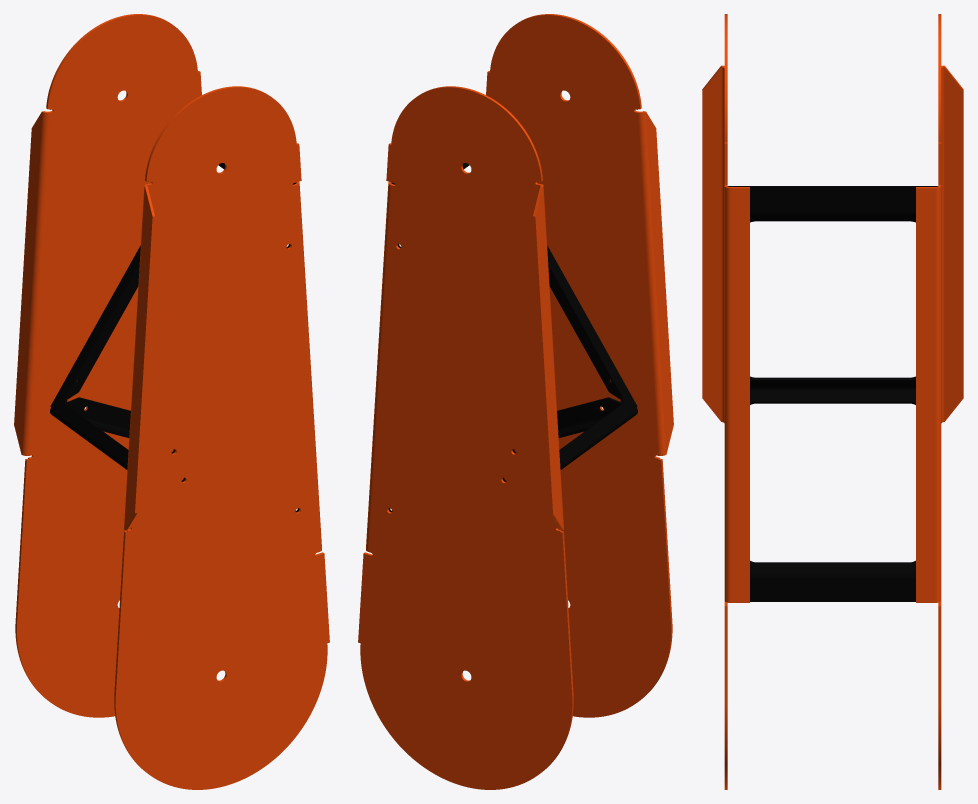
The model's file is lowerarm.dae.
3 views of the same model, side by side, from view 1: azimuth 30°, elevation 25°; view 2: azimuth 150°, elevation 25°; view 3: azimuth 270°, elevation 25° (orthographic). The views are drawn at different scales.
Visible parts, largest first — view 1: Lower arm side, Part 5, Lower arm skeleton; view 2: Part 5, Lower arm side, Lower arm skeleton; view 3: Part 5, Lower arm side, Lower arm skeleton.
Boxes of the visible parts, x1=… form: Lower arm side: x1=114, y1=86, x2=329, y2=789; Part 5: x1=14, y1=14, x2=201, y2=717; Lower arm skeleton: x1=50, y1=163, x2=299, y2=512; Part 5: x1=358, y1=86, x2=573, y2=789; Lower arm side: x1=486, y1=14, x2=673, y2=717; Lower arm skeleton: x1=388, y1=163, x2=637, y2=512; Part 5: x1=916, y1=14, x2=963, y2=789; Lower arm side: x1=702, y1=14, x2=749, y2=789; Lower arm skeleton: x1=728, y1=186, x2=937, y2=601.
Bounding box in the file's own units: 0.0839 × 0.082 × 0.261.
